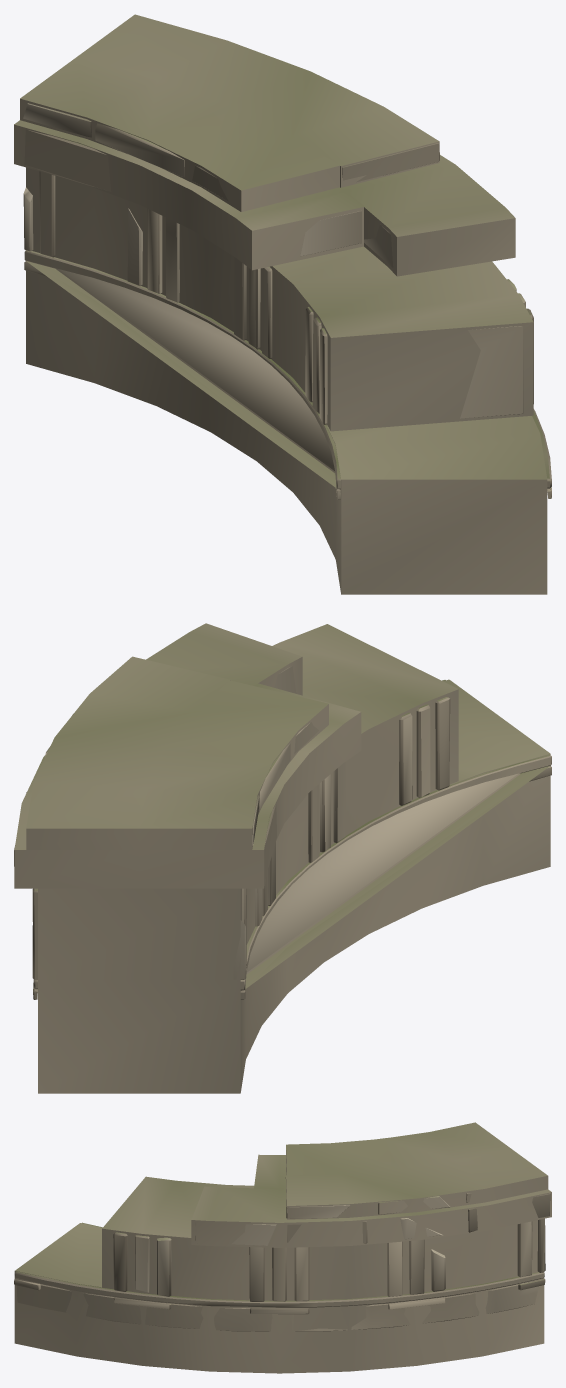
The model's file is tholos_lintel_r.glb.
3 renders of one model, top to bottom at view 1: azimuth 30°, elevation 25°; view 2: azimuth 150°, elevation 25°; view 3: azimuth 270°, elevation 25°, orthographic. The views are drawn at different scales.
Parts seen in each view (by area): view 1: tholos_lintel_r_far, tholos_lintel_r; view 2: tholos_lintel_r_far, tholos_lintel_r; view 3: tholos_lintel_r_far, tholos_lintel_r.
Part boxes in pixels (x1,y1,x2,y2): tholos_lintel_r_far: (14,14,547,594); tholos_lintel_r: (23,103,551,499); tholos_lintel_r_far: (14,623,550,1093); tholos_lintel_r: (14,666,551,999); tholos_lintel_r_far: (14,1122,551,1373); tholos_lintel_r: (14,1137,550,1331).
Size of the model in its own units: 8.46 by 7.5 by 21.43.
